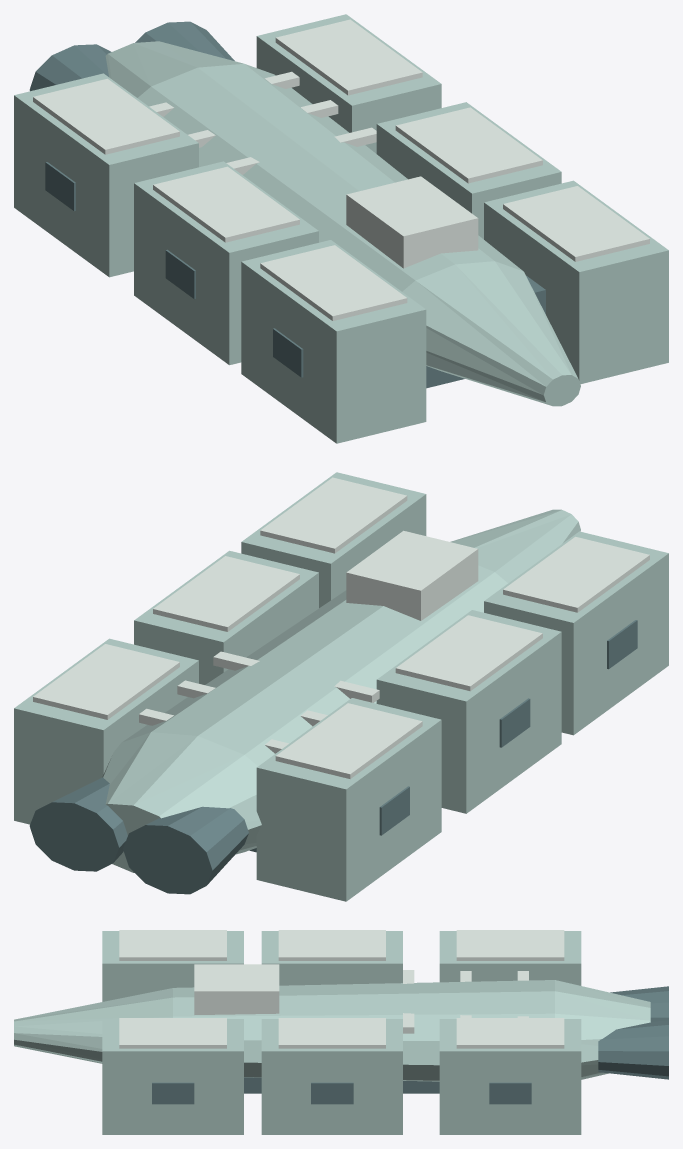
3 views of the same model, one above another, from view 1: azimuth 30°, elevation 25°; view 2: azimuth 150°, elevation 25°; view 3: azimuth 270°, elevation 25° (orthographic). The views are drawn at different scales.
Size of the model in its own units: 4.36 by 1.62 by 9.91.
